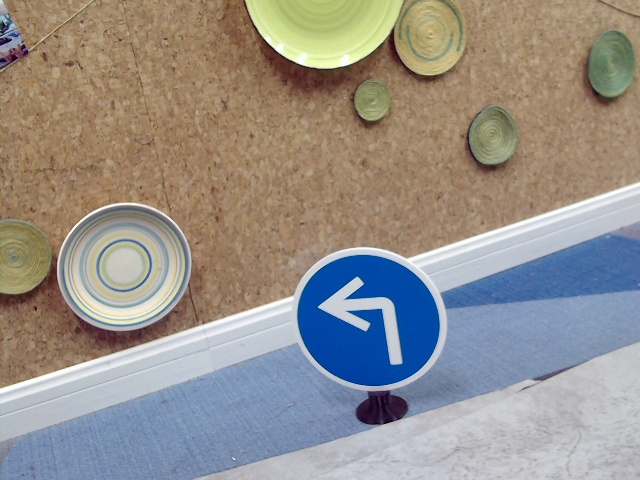turn_left: (318, 274, 405, 366)
